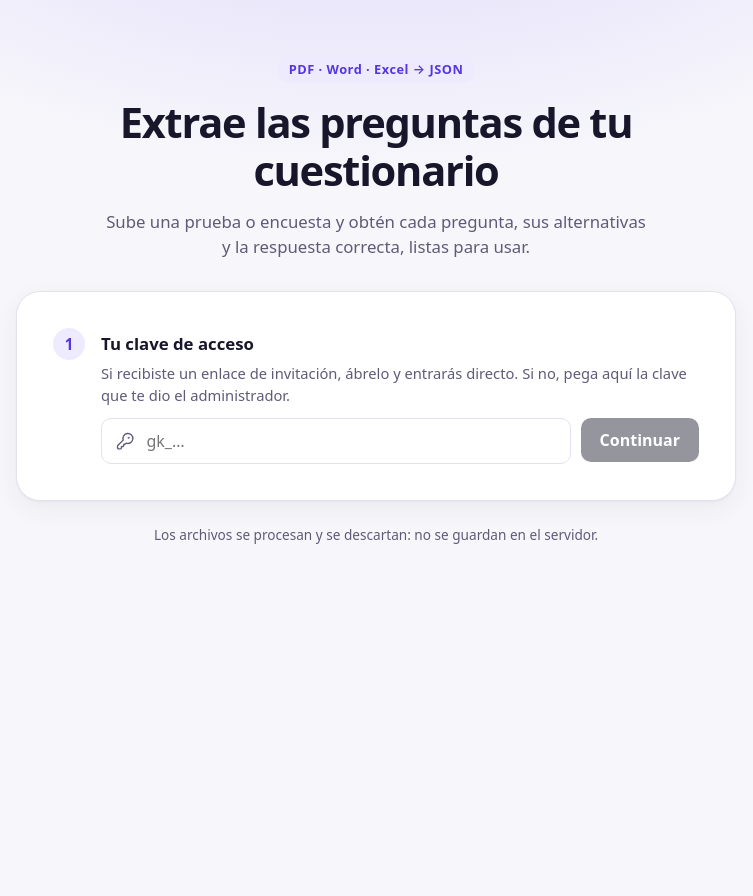
it: App › explains a server without models and lets the user retry
This screenshot has width=753, height=896.
Type "gk_acme_secret" into the password field named "Clave de acceso".
click(350, 441); type("gk_acme_secret")  # box [144,419,556,463]
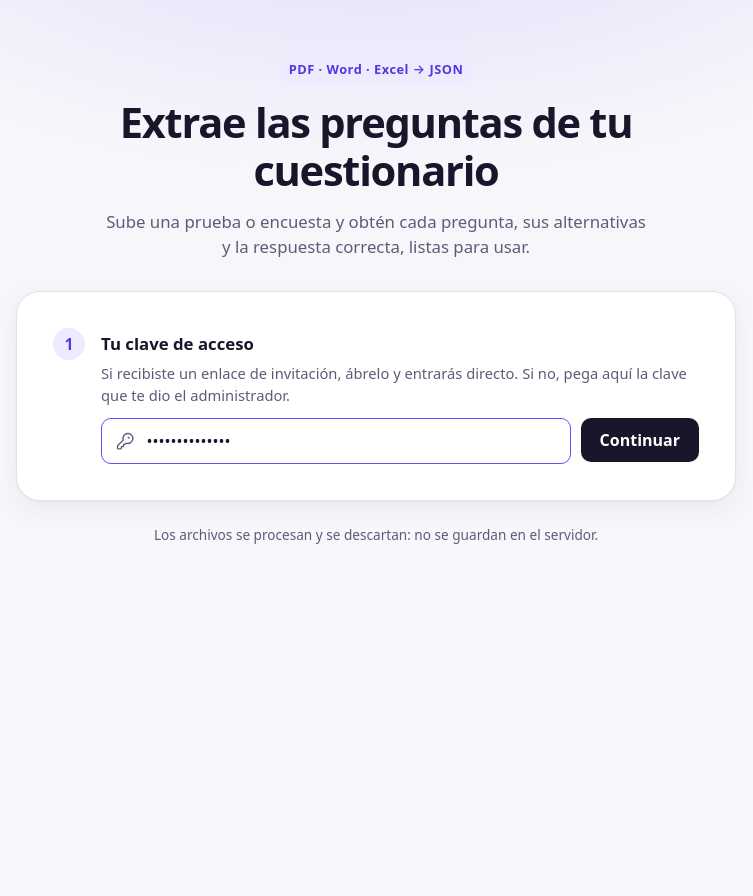
Click the button "Continuar".
click(640, 440)  # box [581,418,699,462]
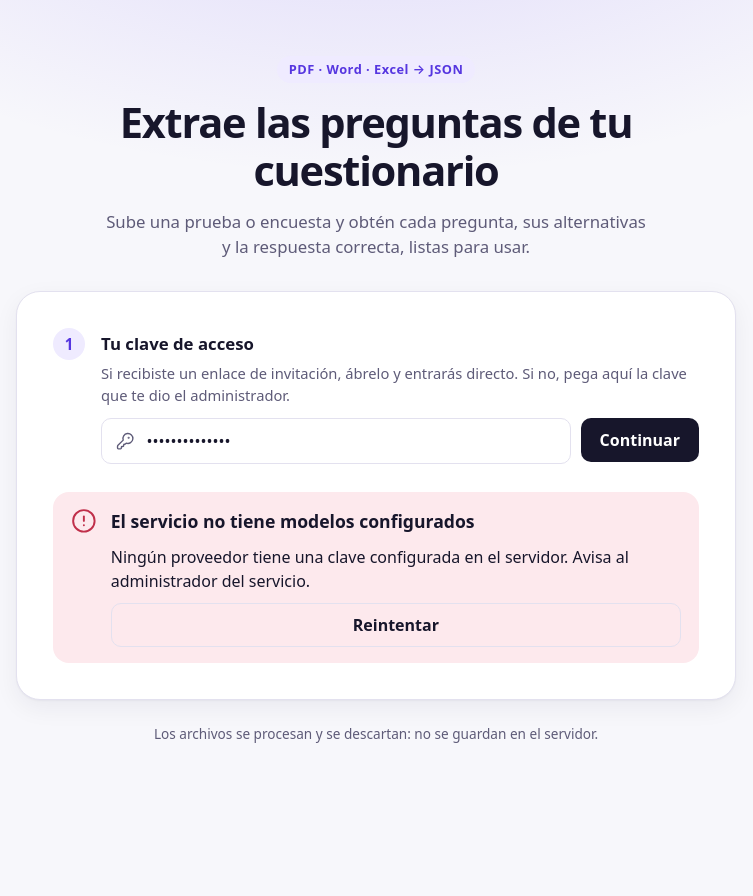
Result: the text "El servicio no tiene modelos configurados" is shown at [111,509,475,533]
Click the button "Reintentar".
click(396, 625)  # box [111,603,681,647]
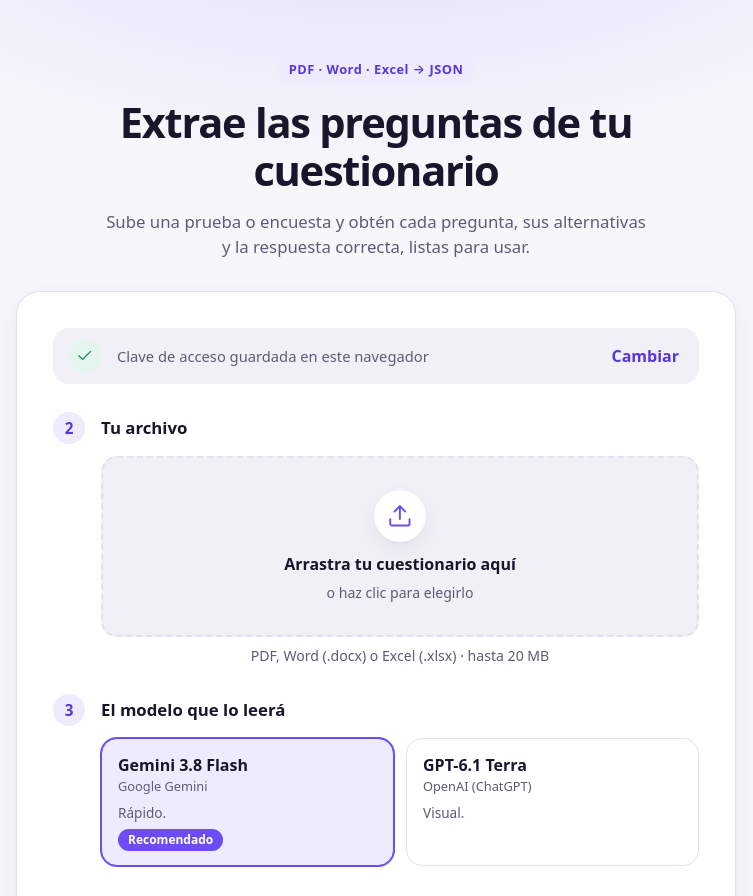
Result: the file field labelled "Arrastra tu cuestionario aquí o haz clic para elegirlo" is shown at [101,456,699,637]
